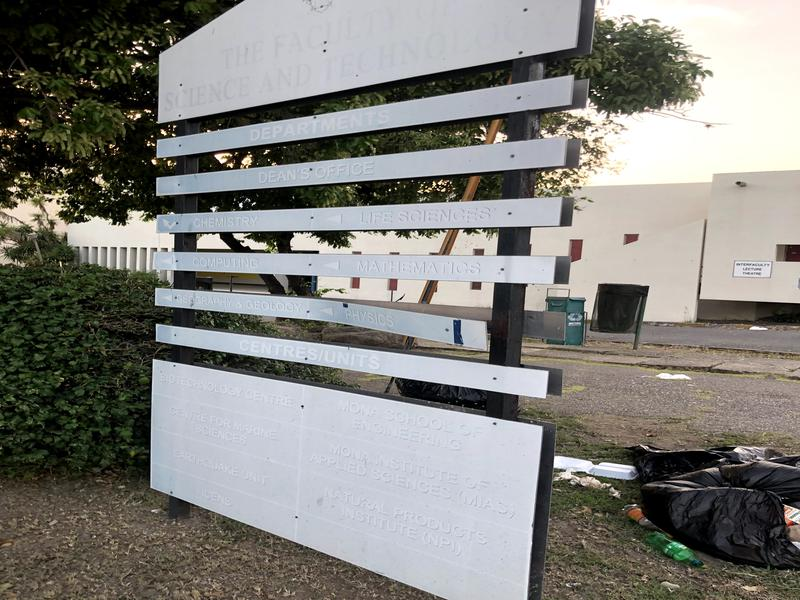18.0055634_-76.7484079_scitechsign: (134, 1, 604, 600)
